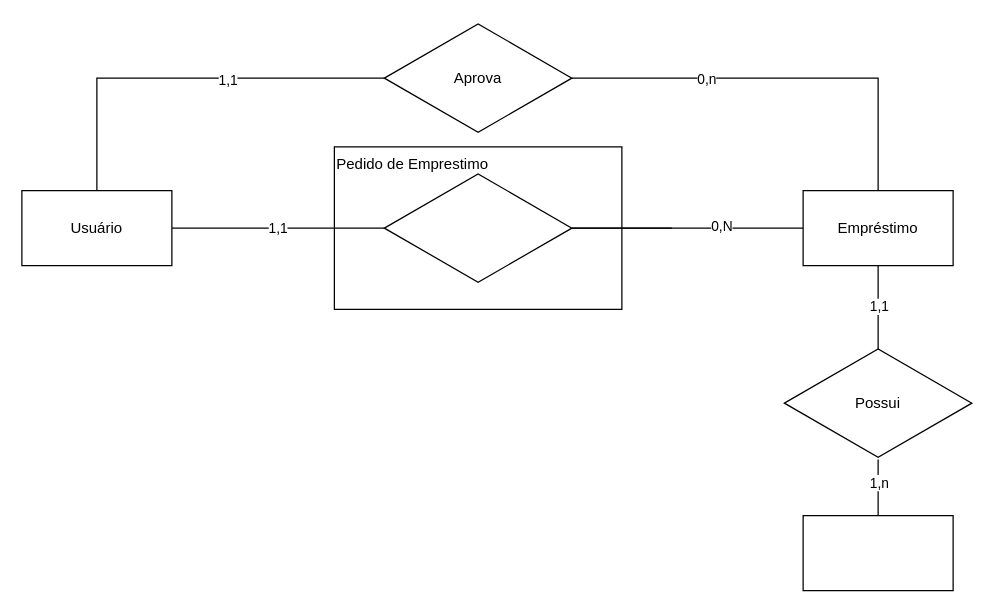
Image size: 994x613. Some labels were removed from this diagram. The shapes that lost their labels are listed below. From the top down, each one's centre as x and y in pixels, then its label:
At [477,227]: "Cria".
At [877,552]: "Parcelas".
